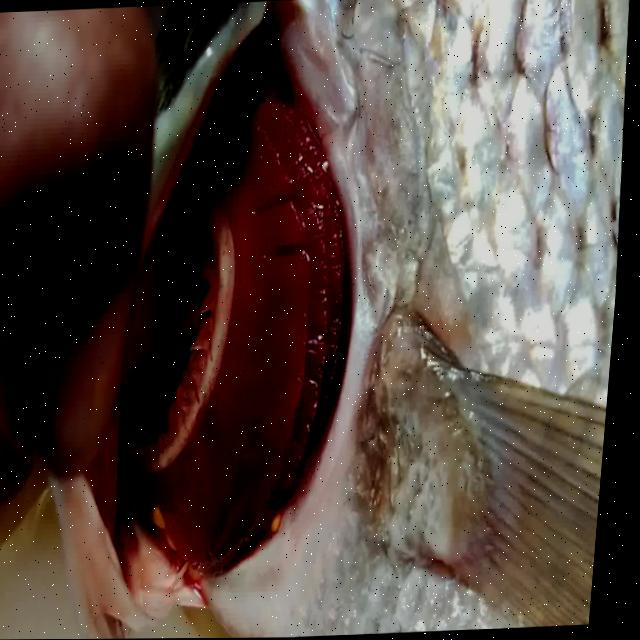Fresh: (127, 21, 402, 556)
